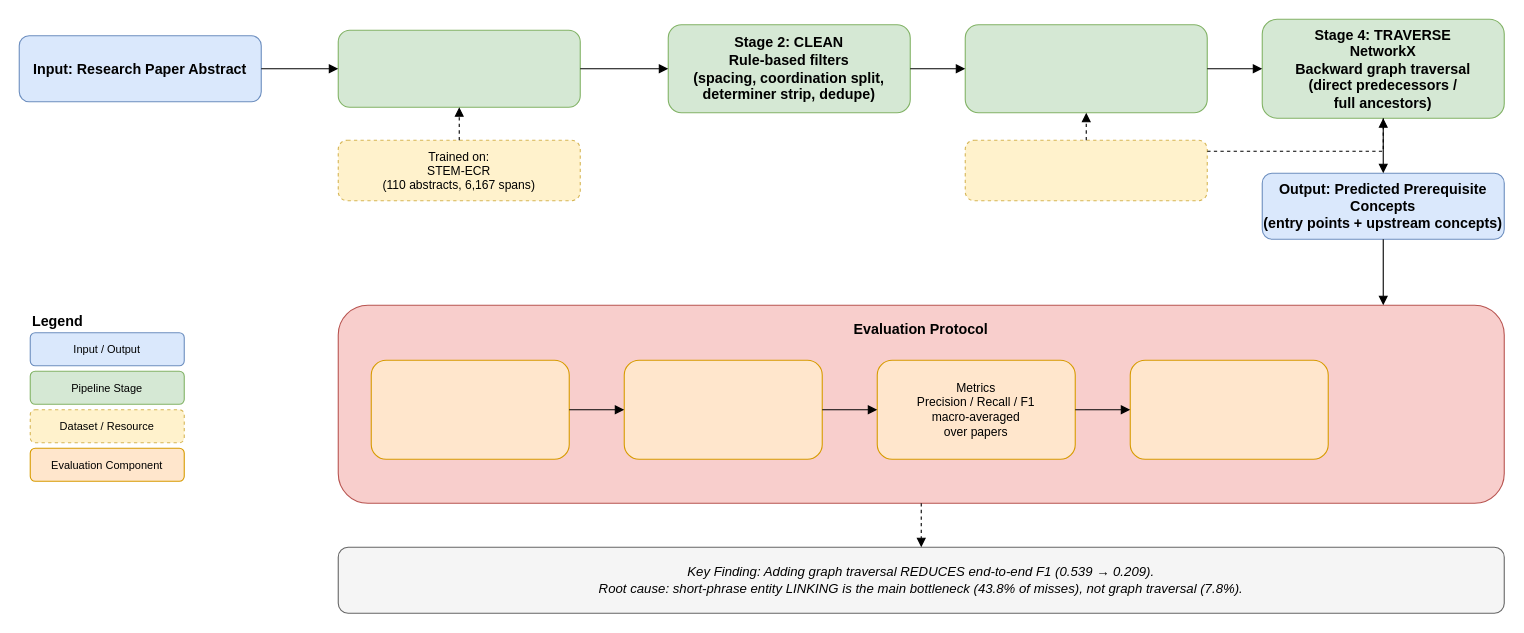
The diagram is 1524 pixels wide and 633 high, and some of its shapes have lost their labels. The box of each missing label's shape, as (x1, y1, x2, y2) in pixels:
3 Matching Rules Strict verbatim Semantic (primary) Lenient overlap: (623, 359, 822, 459)
Failure Analysis Link miss vs. graph-absent vs. traversal miss: (1129, 359, 1328, 459)
Gold Set 12 ML/NLP papers 100 hand-annotated prerequisites: (370, 359, 569, 459)
Reference graph: LectureBank (208 concepts, 921 edges): (964, 139, 1207, 201)
Stage 1: EXTRACT SciBERT (fine-tuned) BIO concept tagging: (337, 29, 580, 107)
Stage 3: LINK Sentence-BERT (all-MiniLM-L6-v2) Cosine similarity match: (964, 24, 1207, 113)
